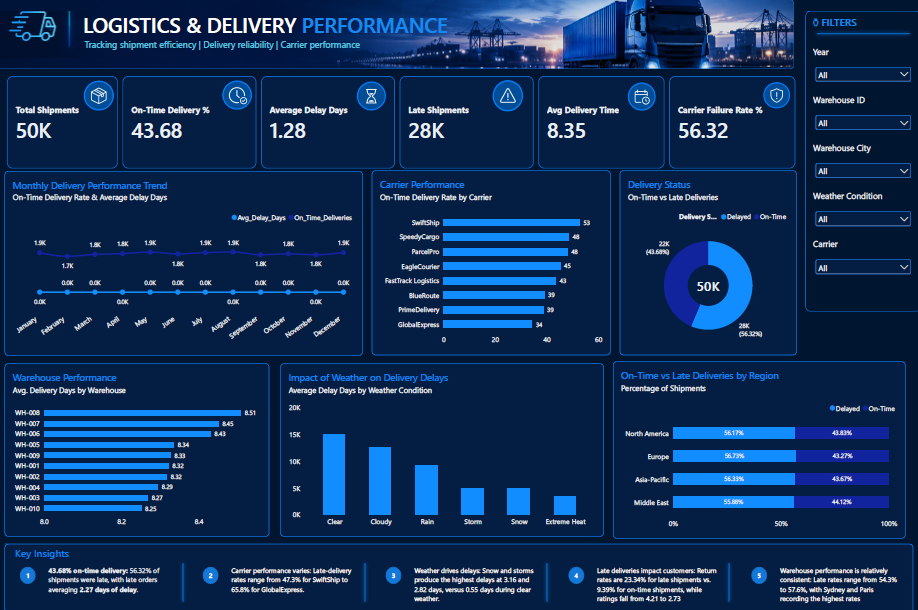

Layout of this report page (visuals, bound fields, positions):
{"tool":"powerbi","page":{"name":"Page 1","canvas":[1920,1275],"ordinal":0},"visuals":[{"type":"image","box":[0,0,1656,144],"z":0,"group":"g1"},{"type":"cardVisual","fields":{"Data":["delivery_performance.Total Shipments"]},"box":[16,159.1,240,192],"z":0},{"type":"shape","box":[336,1163,100,96],"z":0,"group":"g3"},{"type":"image","box":[0,24,191.1,96],"z":1000,"group":"g1"},{"type":"cardVisual","fields":{"Data":["delivery_performance.OTD_Rate_Pct"]},"box":[256,159.1,288,192],"z":1000},{"type":"shape","box":[16,1131,1888,144],"z":1000,"group":"g2"},{"type":"shape","box":[714.7,1163,100,96],"z":1000,"group":"g3"},{"type":"cardVisual","fields":{"Data":["delivery_performance.Avg_Delay_Days"]},"box":[544,159.1,288,192],"z":1500},{"type":"textbox","box":[167.2,24,812.1,96],"z":2000,"group":"g1"},{"type":"shape","box":[1680,24,240,624],"z":2000},{"type":"shape","box":[1093.3,1163,100,96],"z":2000,"group":"g3"},{"type":"textbox","box":[32,1135.5,192,28.8],"z":3000,"group":"g2"},{"type":"shape","box":[1472,1163,100,96],"z":3000,"group":"g3"},{"type":"lineChart","title":"Monthly Delivery Performance Trend","fields":{"Y":["delivery_performance.Avg_Delay_Days","delivery_performance.On_Time_Deliveries"],"Category":["delivery_performance.order_date.Variation.Date Hierarchy.Month"]},"box":[16,356.4,744,384],"z":4000},{"type":"donutChart","title":"Delivery Status","fields":{"Y":["delivery_performance.Total Shipments"],"Category":["delivery_performance.Delivery Status Group"]},"box":[1293.5,355.3,368,384],"z":5000},{"type":"textbox","box":[106.8,1177.1,256,86.4],"z":5000,"group":"g2"},{"type":"cardVisual","fields":{"Data":["delivery_performance.Late Shipments"]},"box":[832,159.1,288,192],"z":5500},{"type":"cardVisual","fields":{"Data":["delivery_performance.Avg Delivery Time"]},"box":[1120,159.1,272,192],"z":5750},{"type":"clusteredBarChart","title":"Carrier Performance","fields":{"Category":["delivery_performance.carrier"],"Y":["delivery_performance.OTD_Rate_Pct"]},"box":[778.8,355.3,496,384],"z":6000},{"type":"textbox","box":[486.8,1177.1,256,86.4],"z":7000,"group":"g2"},{"type":"clusteredBarChart","title":"Warehouse Performance","fields":{"Category":["delivery_performance.warehouse_id"],"Y":["delivery_performance.Avg Delivery Days"]},"box":[16,755.5,550,360],"z":9000},{"type":"textbox","box":[866.8,1177.1,256,86.4],"z":9000,"group":"g2"},{"type":"slicer","title":"Year","fields":{"Values":["delivery_performance.order_date"]},"box":[1696,96,208,96],"z":10000},{"type":"columnChart","title":"Impact of Weather on Delivery Delays","fields":{"Y":["delivery_performance.actual_delivery_days"],"Category":["delivery_performance.weather_condition"]},"box":[588.6,755.5,672,360],"z":11000},{"type":"textbox","box":[1246.8,1177.1,256,86.4],"z":11000,"group":"g2"},{"type":"group","id":"g1","title":"Group 2","box":[0,0,1656,144],"z":12000},{"type":"hundredPercentStackedBarChart","title":"On-Time vs Late Deliveries by Region","fields":{"Y":["delivery_performance.Total Shipments"],"Category":["delivery_performance.Region"],"Series":["delivery_performance.Delivery Status Group"]},"box":[1280,752,608,368],"z":13000},{"type":"textbox","box":[1626.8,1177.1,256,86.4],"z":13000,"group":"g2"},{"type":"textbox","box":[1696,32,144,48],"z":14000},{"type":"slicer","title":"Warehouse ID","fields":{"Values":["delivery_performance.warehouse_id"]},"box":[1696,196,208,96],"z":15000},{"type":"slicer","title":"Warehouse City","fields":{"Values":["delivery_performance.warehouse_city"]},"box":[1696,296,208,96],"z":16000},{"type":"slicer","title":"Weather Condition","fields":{"Values":["delivery_performance.weather_condition"]},"box":[1696,396,208,96],"z":17000},{"type":"slicer","title":"Carrier","fields":{"Values":["delivery_performance.carrier"]},"box":[1696,496,208,96],"z":18000},{"type":"shape","box":[1696,48,208,48],"z":19000},{"type":"image","box":[1302.4,160,80,80],"z":20000,"group":"g4"},{"type":"group","id":"g2","title":"Group 4","box":[16,1131,1888,144],"z":21000},{"type":"cardVisual","fields":{"Data":["delivery_performance.Carrier Failure Rate %"]},"box":[1392,159.1,272,192],"z":22500},{"type":"image","box":[1584,160,80,80],"z":22750,"group":"g4"},{"type":"image","box":[739.2,160,80,80],"z":23000,"group":"g4"},{"type":"image","box":[457.6,160,80,80],"z":25000,"group":"g4"},{"type":"image","box":[160,160,96,80],"z":26000,"group":"g4"},{"type":"group","id":"g3","title":"Group 1","box":[336,1163,1236,96],"z":26000,"group":"g2"},{"type":"image","box":[1020.8,160,80,80],"z":27000,"group":"g4"},{"type":"shape","box":[48,1179,32,35],"z":27000,"group":"g5"},{"type":"group","id":"g4","title":"Group 5","box":[160,160,1504,80],"z":27501},{"type":"shape","box":[428,1179,32,35],"z":28000,"group":"g5"},{"type":"shape","box":[808,1179,32,35],"z":29000,"group":"g5"},{"type":"shape","box":[1188,1179,32,35],"z":30000,"group":"g5"},{"type":"shape","box":[1568,1179,32,35],"z":31000,"group":"g5"},{"type":"group","id":"g5","title":"Group 3","box":[48,1179,1552,35],"z":31001,"group":"g2"}]}

Visuals, with their boxes in screenshot pixels (x1, y1, x2, y2), scaled from the page's 1920x1275 canvas onto the 918x610 screenshot:
image: rect(0, 0, 792, 69)
cardVisual - delivery_performance.Total Shipments: rect(8, 76, 122, 168)
shape: rect(161, 556, 208, 602)
image: rect(0, 11, 91, 57)
cardVisual - delivery_performance.OTD_Rate_Pct: rect(122, 76, 260, 168)
shape: rect(8, 541, 910, 609)
shape: rect(342, 556, 390, 602)
cardVisual - delivery_performance.Avg_Delay_Days: rect(260, 76, 398, 168)
textbox: rect(80, 11, 468, 57)
shape: rect(803, 11, 917, 310)
shape: rect(523, 556, 571, 602)
textbox: rect(15, 543, 107, 557)
shape: rect(704, 556, 752, 602)
"Monthly Delivery Performance Trend" lineChart: rect(8, 171, 363, 354)
"Delivery Status" donutChart: rect(618, 170, 794, 354)
textbox: rect(51, 563, 173, 604)
cardVisual - delivery_performance.Late Shipments: rect(398, 76, 536, 168)
cardVisual - delivery_performance.Avg Delivery Time: rect(536, 76, 666, 168)
"Carrier Performance" clusteredBarChart: rect(372, 170, 610, 354)
textbox: rect(233, 563, 355, 604)
"Warehouse Performance" clusteredBarChart: rect(8, 361, 271, 534)
textbox: rect(414, 563, 537, 604)
"Year" slicer: rect(811, 46, 910, 92)
"Impact of Weather on Delivery Delays" columnChart: rect(281, 361, 603, 534)
textbox: rect(596, 563, 719, 604)
"Group 2" group: rect(0, 0, 792, 69)
"On-Time vs Late Deliveries by Region" hundredPercentStackedBarChart: rect(612, 360, 903, 536)
textbox: rect(778, 563, 900, 604)
textbox: rect(811, 15, 880, 38)
"Warehouse ID" slicer: rect(811, 94, 910, 140)
"Warehouse City" slicer: rect(811, 142, 910, 188)
"Weather Condition" slicer: rect(811, 189, 910, 235)
"Carrier" slicer: rect(811, 237, 910, 283)
shape: rect(811, 23, 910, 46)
image: rect(623, 77, 661, 115)
"Group 4" group: rect(8, 541, 910, 609)
cardVisual - delivery_performance.Carrier Failure Rate %: rect(666, 76, 796, 168)
image: rect(757, 77, 796, 115)
image: rect(353, 77, 392, 115)
image: rect(219, 77, 257, 115)
image: rect(76, 77, 122, 115)
"Group 1" group: rect(161, 556, 752, 602)
image: rect(488, 77, 526, 115)
shape: rect(23, 564, 38, 581)
"Group 5" group: rect(76, 77, 796, 115)
shape: rect(205, 564, 220, 581)
shape: rect(386, 564, 402, 581)
shape: rect(568, 564, 583, 581)
shape: rect(750, 564, 765, 581)
"Group 3" group: rect(23, 564, 765, 581)
